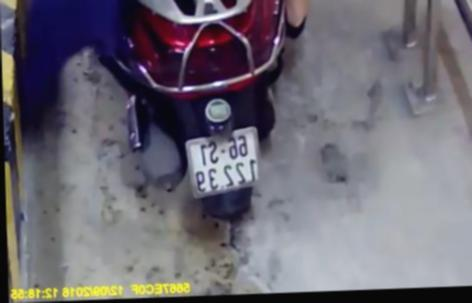License_Plate: (182, 122, 271, 200)
